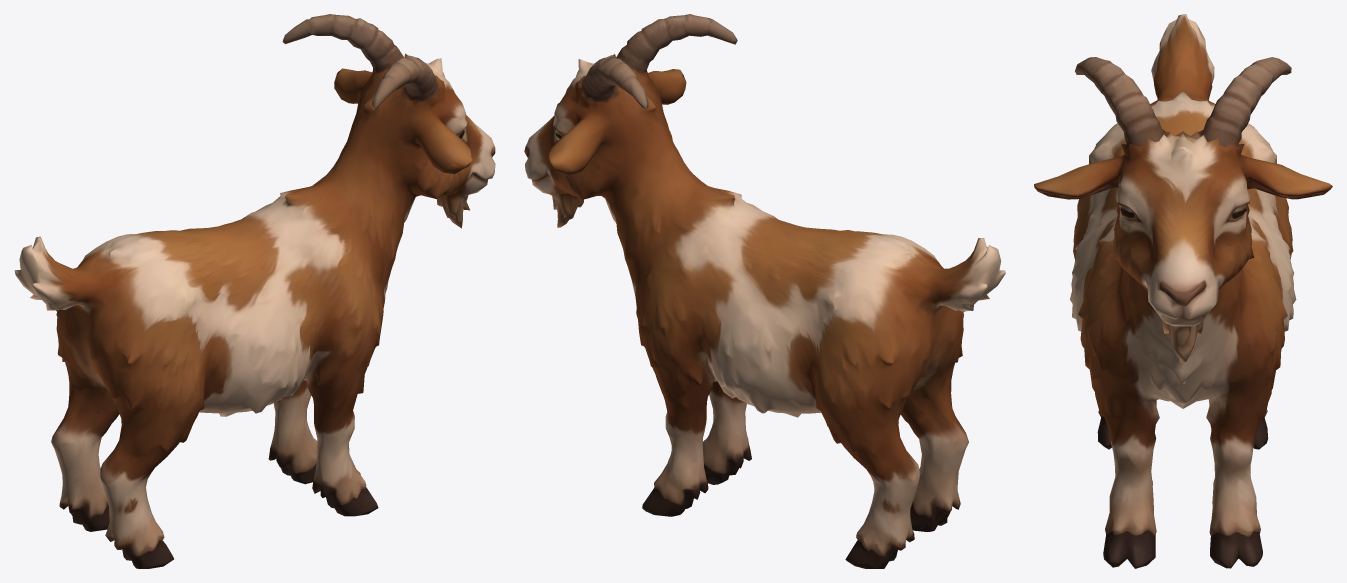
The model's file is goat.glb.
3 renders of one model, left to right at view 1: azimuth 30°, elevation 25°; view 2: azimuth 150°, elevation 25°; view 3: azimuth 270°, elevation 25°, orthographic. The views are drawn at different scales.
Visible parts, largest first — view 1: tripo_node_86ecde79-e664-4798-a918-d4a12c7ea53d; view 2: tripo_node_86ecde79-e664-4798-a918-d4a12c7ea53d; view 3: tripo_node_86ecde79-e664-4798-a918-d4a12c7ea53d.
Part boxes in pixels (<box>): tripo_node_86ecde79-e664-4798-a918-d4a12c7ea53d: <box>14,14,495,568</box>; tripo_node_86ecde79-e664-4798-a918-d4a12c7ea53d: <box>524,14,1005,568</box>; tripo_node_86ecde79-e664-4798-a918-d4a12c7ea53d: <box>1034,14,1332,568</box>.
Bounding box in the file's own units: 1 × 0.8982 × 0.4718.
1 material, 1 textured.
